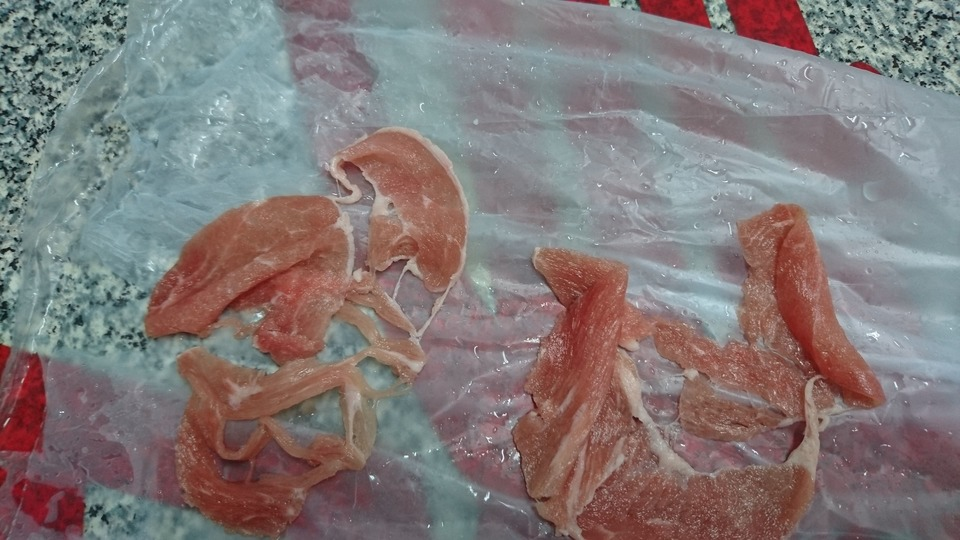restructured meat: (120, 130, 495, 535), (525, 187, 860, 540)
